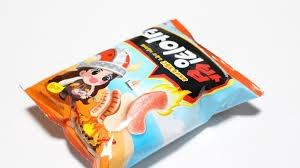snack: (19, 18, 265, 168)
